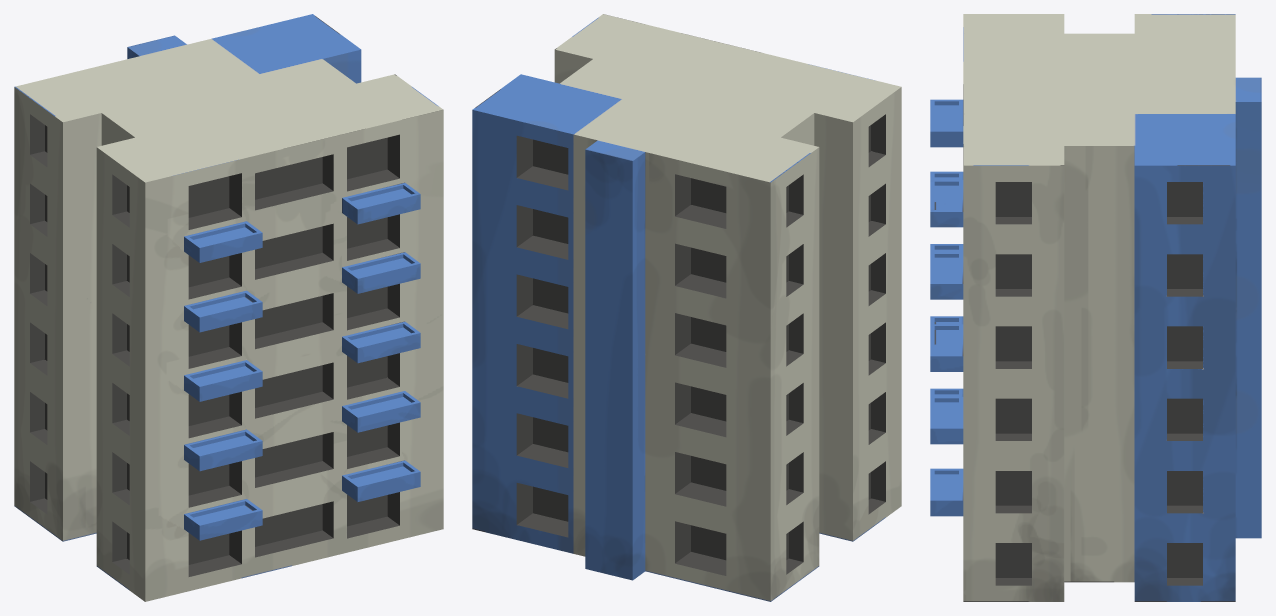
The model's file is Build5.fbx.
The picture shows the model from 3 angles, left to right: view 1: azimuth 30°, elevation 25°; view 2: azimuth 150°, elevation 25°; view 3: azimuth 270°, elevation 25°; orthographic projection. The views are drawn at different scales.
Parts seen in each view (by area): view 1: Build5; view 2: Build5; view 3: Build5.
Boxes of the visible parts, <box> form: Build5: <box>14,14,443,601</box>; Build5: <box>472,14,901,601</box>; Build5: <box>930,14,1261,601</box>.
Bounding box in the file's own units: 5400 × 7250 × 4989.
Materials: 1 (1 with a texture image).
